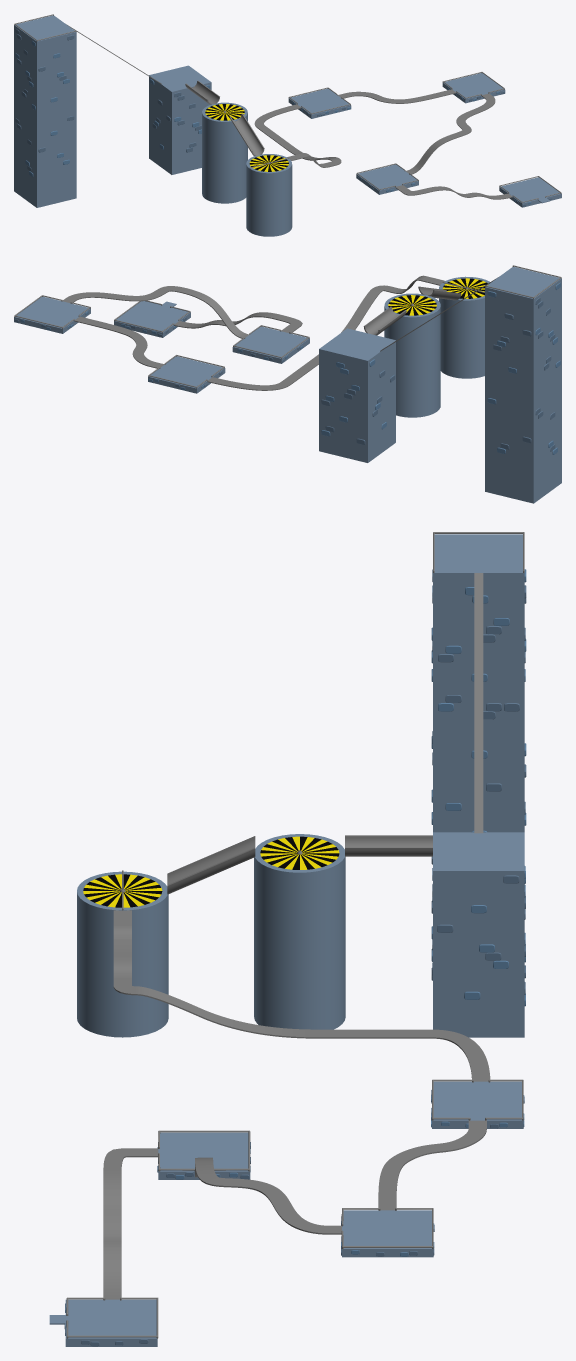
The model's file is Level2 New.fbx.
The picture shows the model from 3 angles, top to bottom: view 1: azimuth 30°, elevation 25°; view 2: azimuth 150°, elevation 25°; view 3: azimuth 270°, elevation 25°; orthographic projection. The views are drawn at different scales.
Visible parts, largest first — view 1: BaseKitchen.003, BaseKitchen.002, CylinderSpin.001, CylinderSpin.002, BaseCustomer2.002, BaseCustomer.002, BaseCustomer1.003, BaseCustomer1.002, Plane.007, Plane.004, Plane.003, CylinderRot1 (+4 smaller); view 2: BaseKitchen.003, BaseKitchen.002, CylinderSpin.001, CylinderSpin.002, BaseCustomer1.003, BaseCustomer2.002, BaseCustomer.002, BaseCustomer1.002, Plane.007, Plane.004, Plane.003, ObjSpin.001 (+4 smaller); view 3: BaseKitchen.003, BaseKitchen.002, CylinderSpin.001, CylinderSpin.002, Plane.007, BaseCustomer2.002, BaseCustomer1.002, BaseCustomer.002, BaseCustomer1.003, Plane.005, Plane.001, Plane.004 (+5 smaller).
Boxes of the visible parts, x1=… form: BaseKitchen.003: x1=14, y1=14, x2=76, y2=207; BaseKitchen.002: x1=149, y1=65, x2=211, y2=174; CylinderSpin.001: x1=202, y1=102, x2=247, y2=203; CylinderSpin.002: x1=246, y1=154, x2=292, y2=236; BaseCustomer2.002: x1=499, y1=176, x2=561, y2=207; BaseCustomer.002: x1=288, y1=87, x2=351, y2=118; BaseCustomer1.003: x1=356, y1=163, x2=418, y2=194; BaseCustomer1.002: x1=442, y1=72, x2=505, y2=103; Plane.007: x1=254, y1=104, x2=341, y2=167; Plane.004: x1=406, y1=93, x2=495, y2=174; Plane.003: x1=338, y1=89, x2=456, y2=103; CylinderRot1: x1=229, y1=113, x2=264, y2=156; BaseKitchen.003: x1=485, y1=265, x2=561, y2=503; BaseKitchen.002: x1=319, y1=328, x2=395, y2=462; CylinderSpin.001: x1=384, y1=293, x2=440, y2=417; CylinderSpin.002: x1=439, y1=276, x2=489, y2=378; BaseCustomer1.003: x1=232, y1=325, x2=309, y2=363; BaseCustomer2.002: x1=114, y1=300, x2=190, y2=337; BaseCustomer.002: x1=148, y1=355, x2=225, y2=393; BaseCustomer1.002: x1=14, y1=295, x2=90, y2=333; Plane.007: x1=207, y1=275, x2=444, y2=390; Plane.004: x1=62, y1=286, x2=248, y2=338; Plane.003: x1=74, y1=316, x2=164, y2=368; ObjSpin.001: x1=388, y1=295, x2=436, y2=315; BaseKitchen.003: x1=431, y1=532, x2=526, y2=832; BaseKitchen.002: x1=431, y1=832, x2=525, y2=1037; CylinderSpin.001: x1=254, y1=834, x2=345, y2=1029; CylinderSpin.002: x1=77, y1=871, x2=168, y2=1037; Plane.007: x1=113, y1=910, x2=490, y2=1081; BaseCustomer2.002: x1=49, y1=1297, x2=158, y2=1346; BaseCustomer1.002: x1=341, y1=1208, x2=434, y2=1257; BaseCustomer.002: x1=431, y1=1079, x2=524, y2=1128; BaseCustomer1.003: x1=157, y1=1130, x2=250, y2=1179; Plane.005: x1=103, y1=1148, x2=158, y2=1299; Plane.001: x1=474, y1=573, x2=483, y2=833; Plane.004: x1=195, y1=1157, x2=341, y2=1234.
Bounding box in the file's own units: 11232 × 4714 × 5193.
